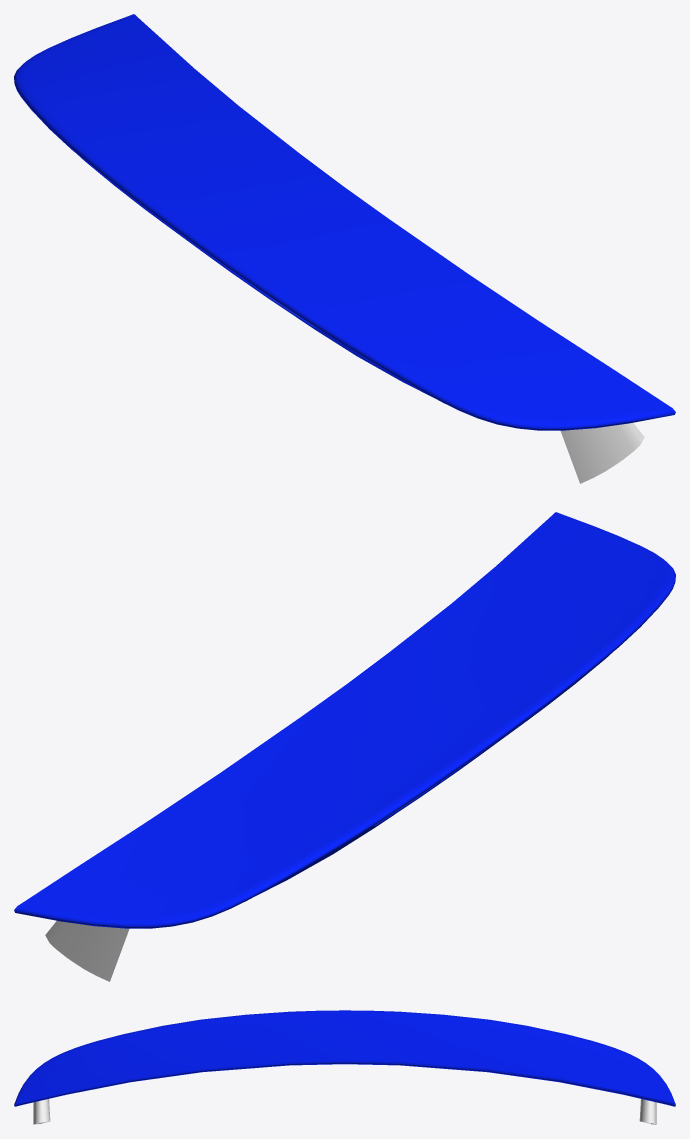
Rendered from Spoiler_Static.obj.
3 views of the same model, one above another, from view 1: azimuth 30°, elevation 25°; view 2: azimuth 150°, elevation 25°; view 3: azimuth 270°, elevation 25° (orthographic). The views are drawn at different scales.
Visible parts, largest first — view 1: Spoiler_Static; view 2: Spoiler_Static; view 3: Spoiler_Static.
Boxes of the visible parts, x1,y1,x2,y2 form: Spoiler_Static: [14, 14, 675, 483]; Spoiler_Static: [14, 512, 675, 981]; Spoiler_Static: [14, 1010, 675, 1124].
Size of the model in its own units: 0.2678 by 0.1246 by 1.09.
